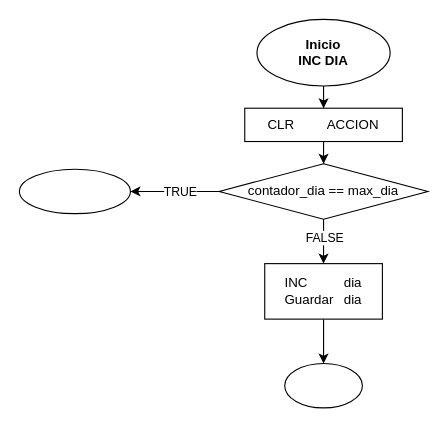
This 447x427 diagram has some shape labels left out. The shapes that lost their labels are listed below. From the top down, each one's centre as x and y in pixels, then its label:
At pixel 74 191: "NUEVO MES".
At pixel 323 385: "FIN".
